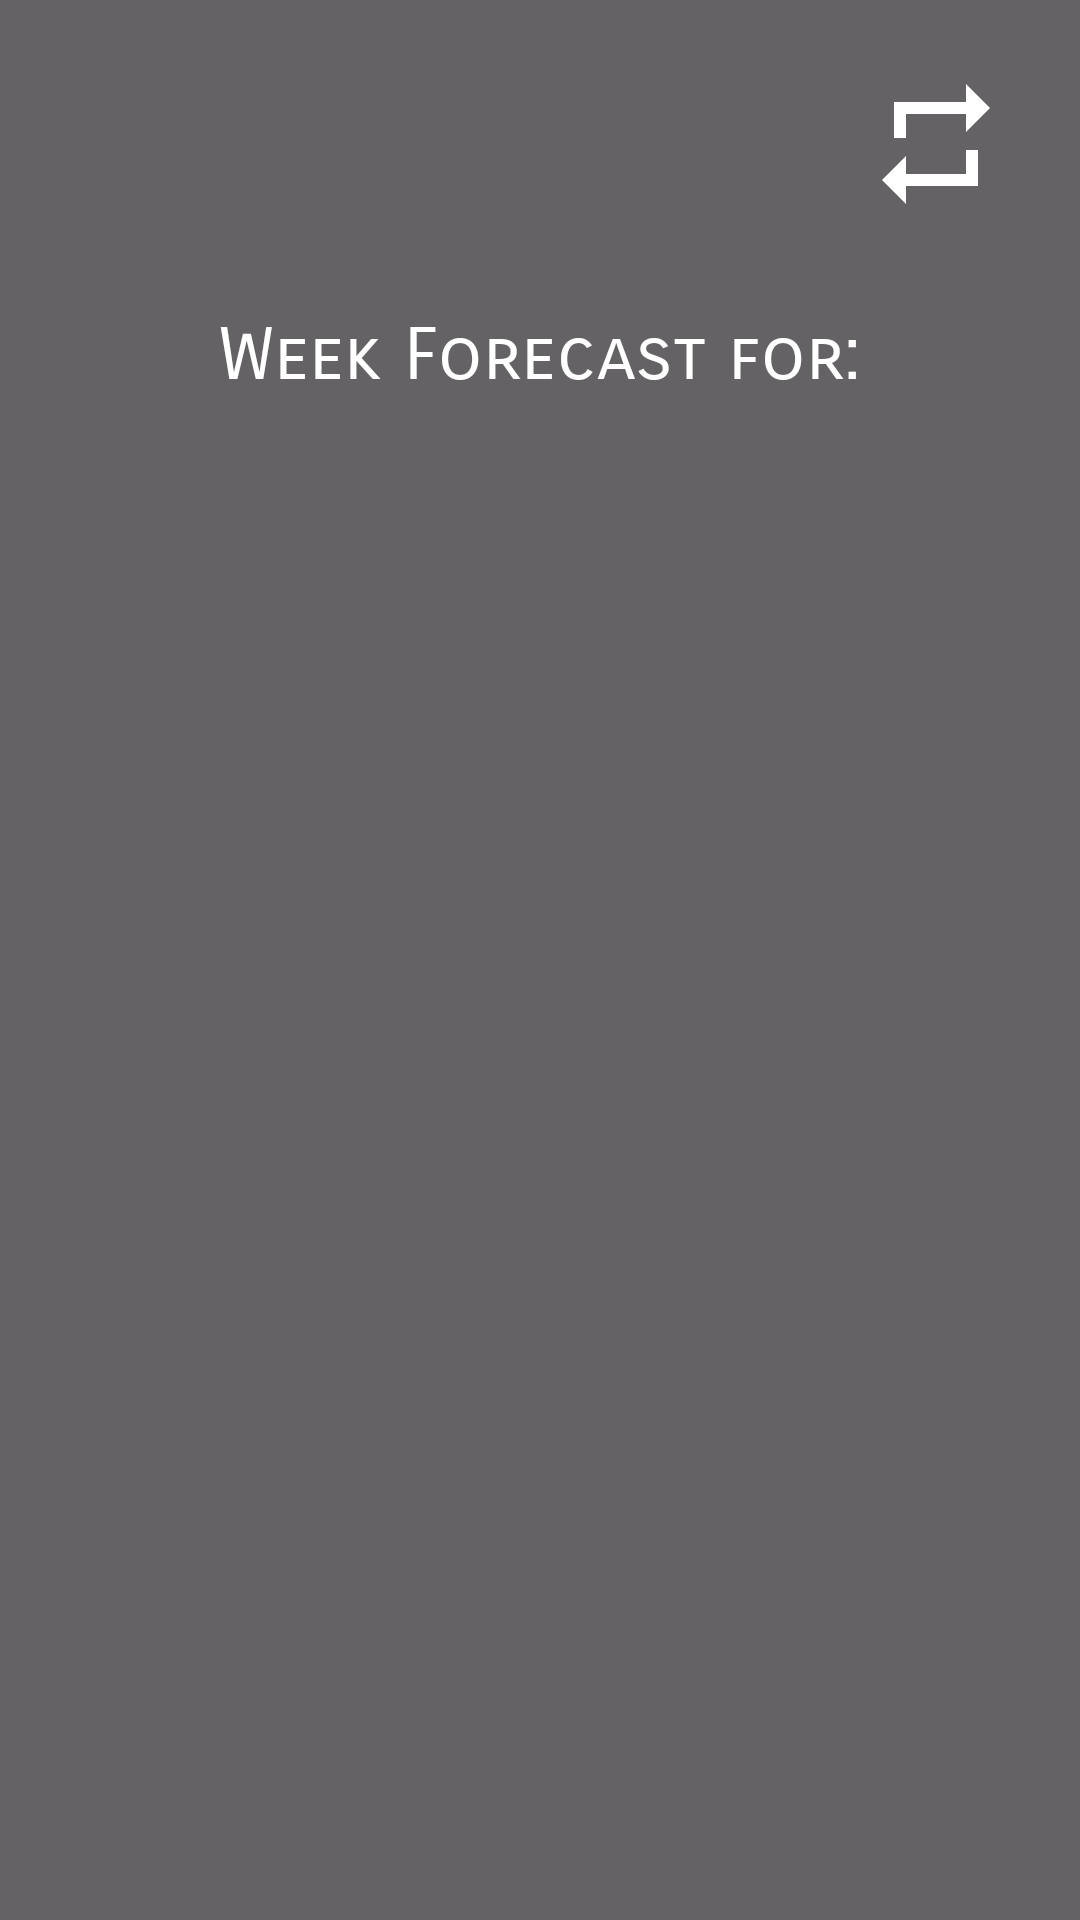

Screen size 1080 x 1920. Icon name, then its center in pixels as (x=x, y=y):
reload: (x=936, y=144)
